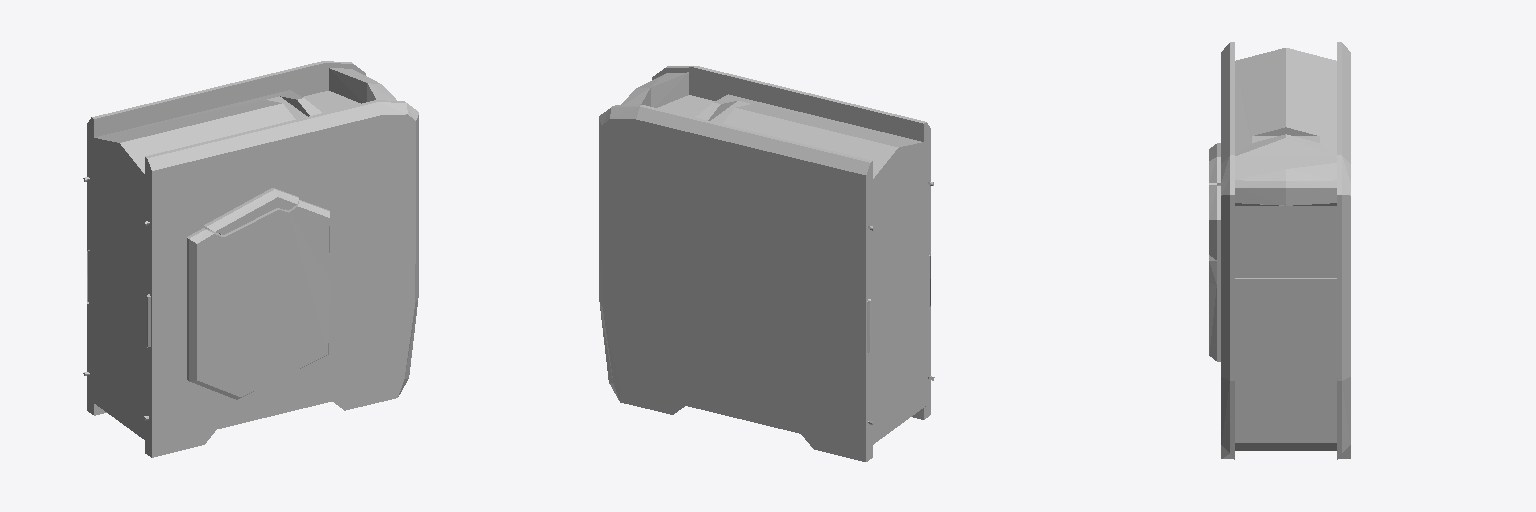
The model's file is cpu3.obj.
3 renders of one model, left to right at view 1: azimuth 30°, elevation 25°; view 2: azimuth 150°, elevation 25°; view 3: azimuth 270°, elevation 25°, orthographic.
Visible parts, largest first — view 1: computer.003; view 2: computer.003; view 3: computer.003.
Boxes of the visible parts, x1,y1,x2,y2 form: computer.003: [83, 61, 418, 457]; computer.003: [599, 66, 934, 461]; computer.003: [1209, 42, 1350, 459].
Size of the model in its own units: 4.88 by 5 by 2.16.